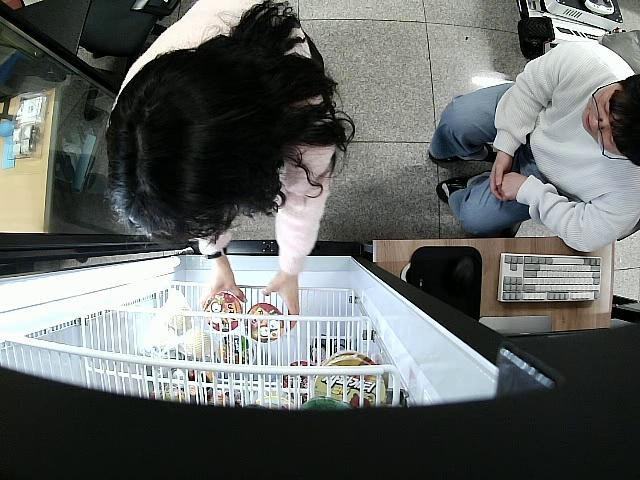06_nuguri_S: (245, 302, 285, 343), (203, 293, 243, 333)
